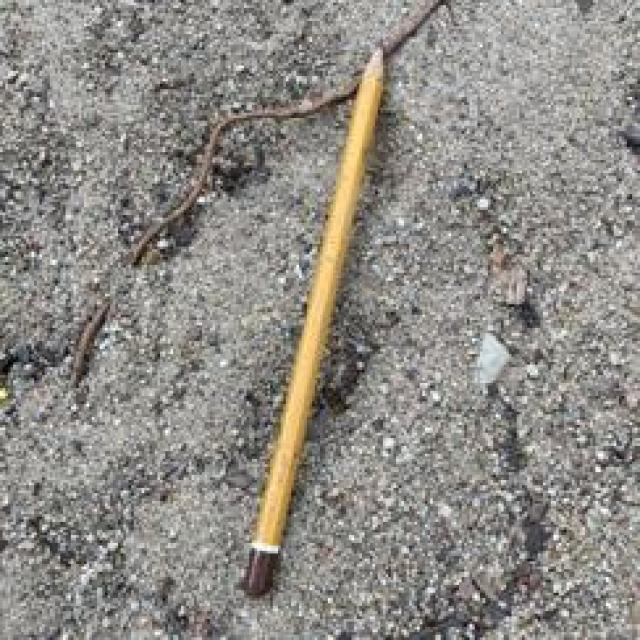pencil: (244, 47, 396, 598)
